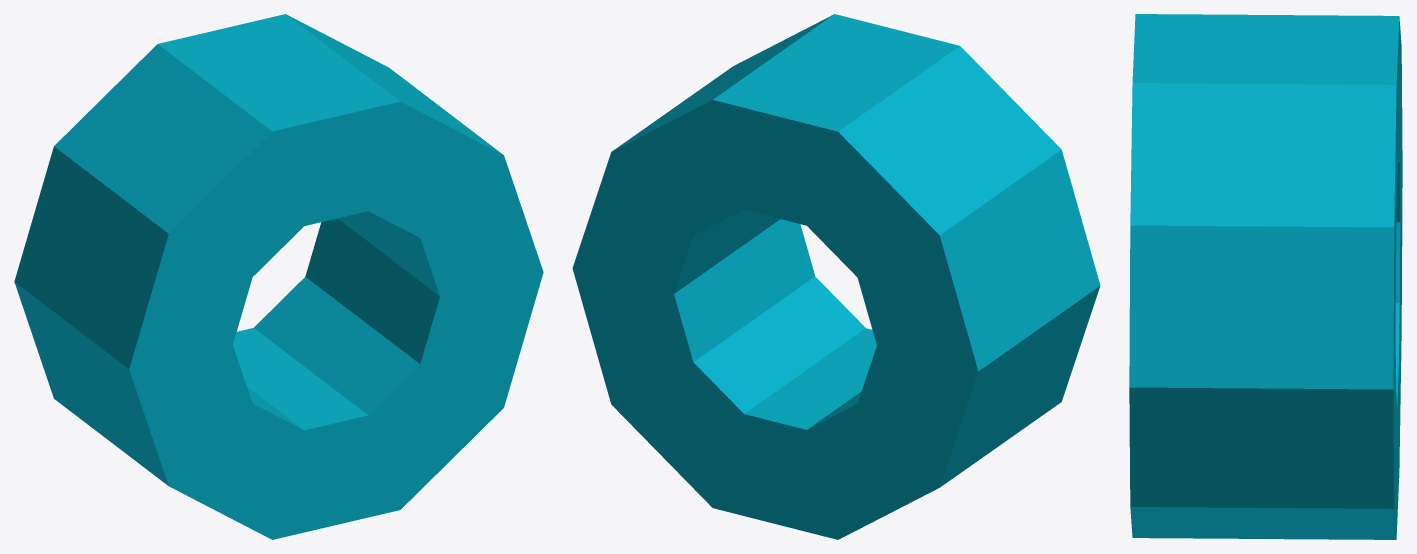
Rendered from wheel1.glb.
3 views of the same model, side by side, from view 1: azimuth 30°, elevation 25°; view 2: azimuth 150°, elevation 25°; view 3: azimuth 270°, elevation 25° (orthographic). The views are drawn at different scales.
Parts seen in each view (by area): view 1: Mesh_Mesh_head_geo.001_lambert2SG.001; view 2: Mesh_Mesh_head_geo.001_lambert2SG.001; view 3: Mesh_Mesh_head_geo.001_lambert2SG.001.
Boxes of the visible parts, x1,y1,x2,y2 form: Mesh_Mesh_head_geo.001_lambert2SG.001: (14,14,543,539); Mesh_Mesh_head_geo.001_lambert2SG.001: (572,14,1100,539); Mesh_Mesh_head_geo.001_lambert2SG.001: (1129,14,1402,539).
Bounding box in the file's own units: 0.00403 × 0.0038 × 0.00207.
